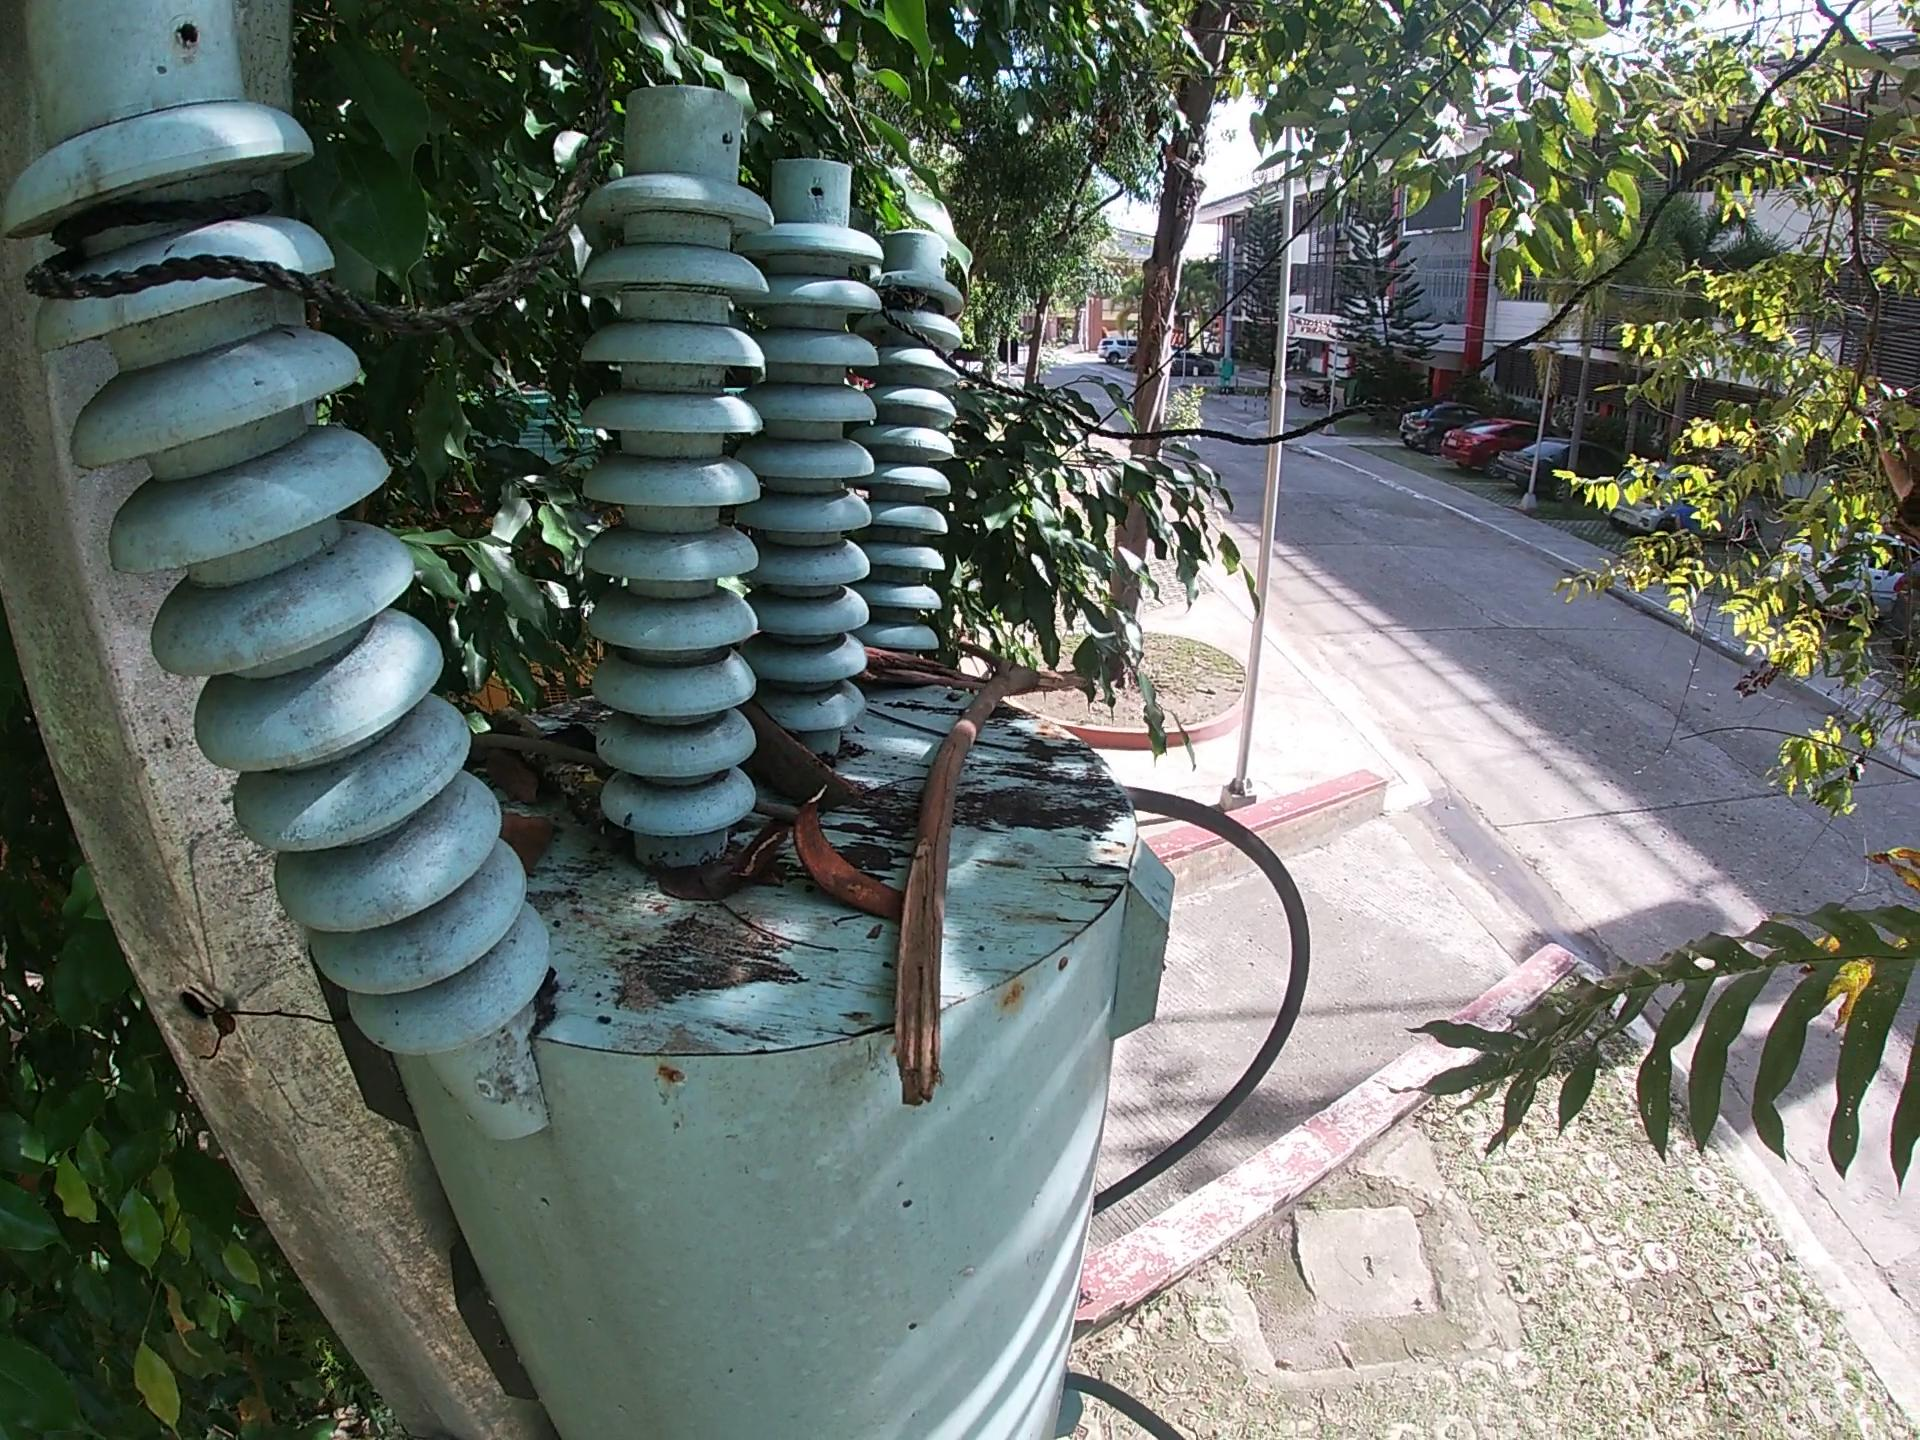leaf: (658, 858, 745, 908), (500, 806, 558, 877), (482, 746, 544, 811)
mahogany fruit: (794, 787, 907, 923), (735, 700, 866, 814), (726, 818, 794, 883)
tree branch: (884, 632, 1104, 1109), (488, 703, 633, 850), (847, 640, 989, 691), (463, 732, 618, 774), (747, 799, 804, 826)
